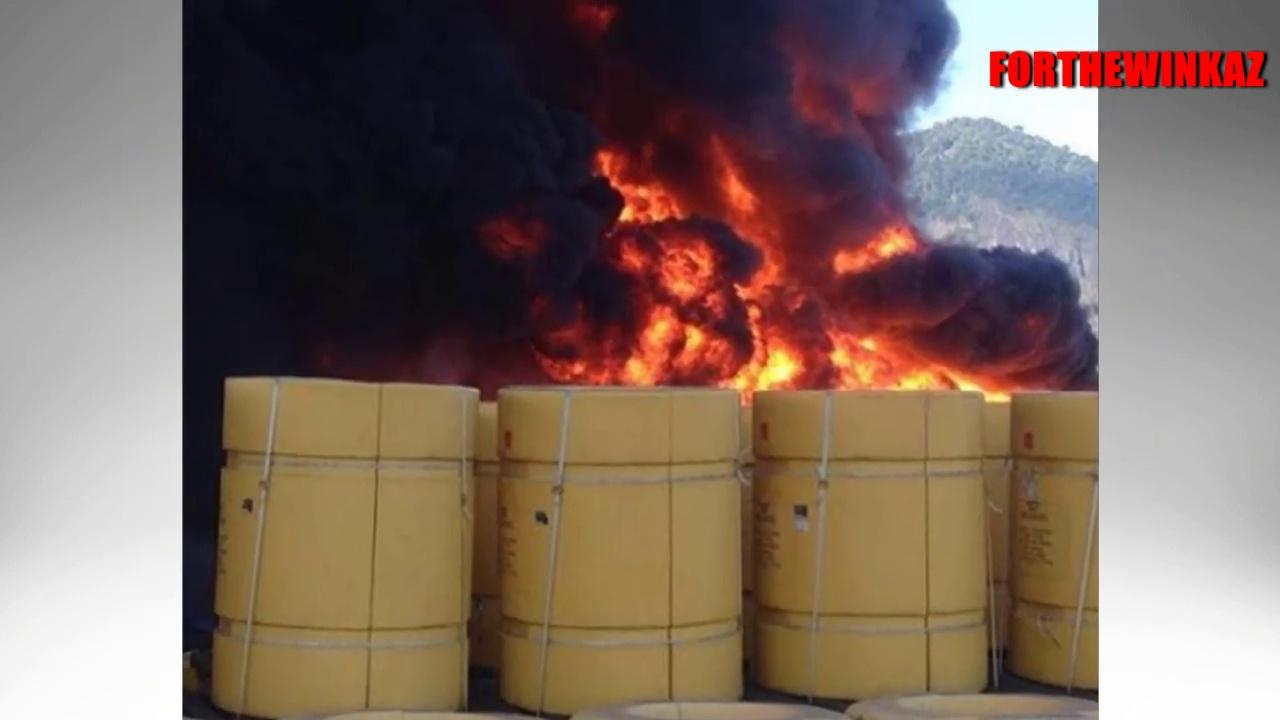smoke: (194, 2, 552, 371), (623, 7, 925, 138)
